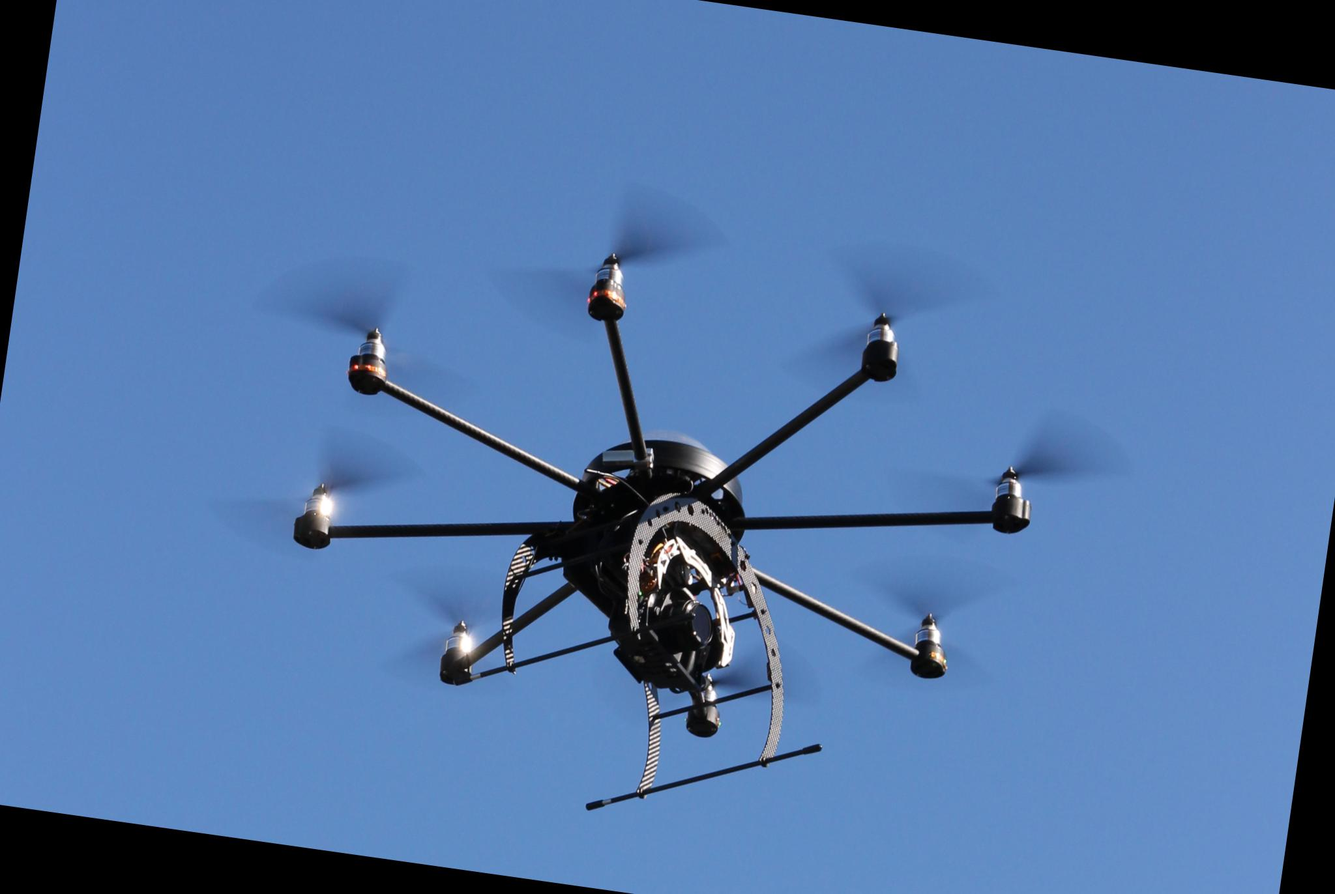drone: (193, 157, 1137, 810)
